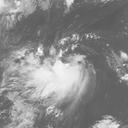cyclone: (35, 56, 94, 103)
